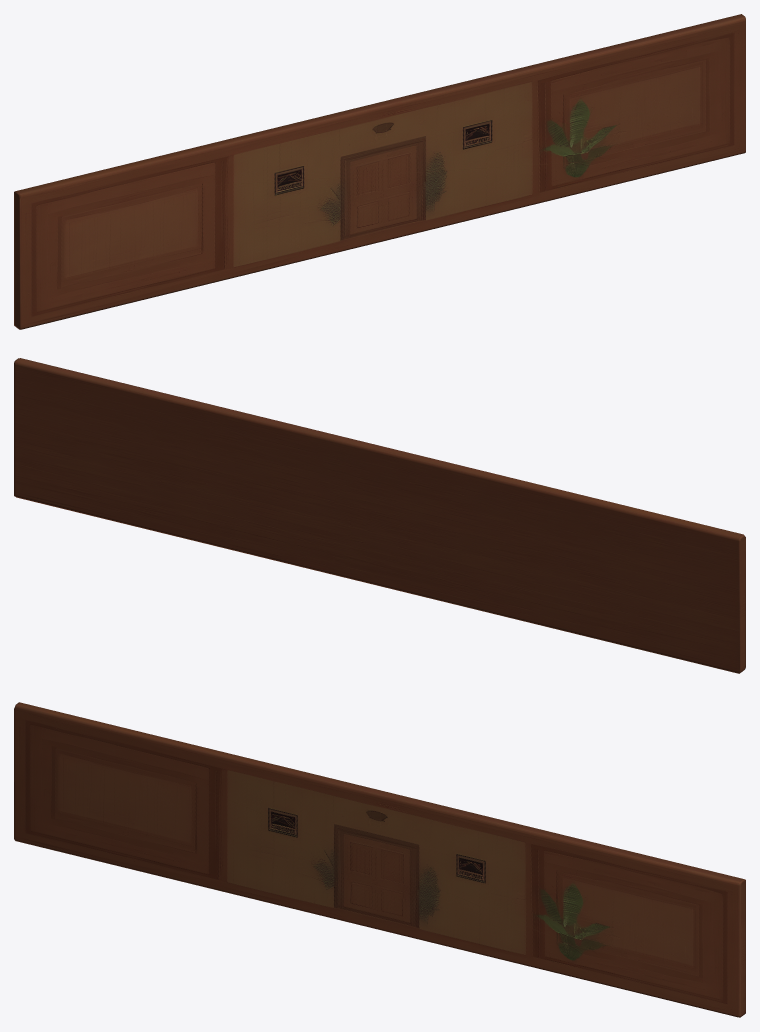
File: Meshy_AI_Low_poly_long_narrow__0518231738_texture.fbx
The picture shows the model from 3 angles, top to bottom: view 1: azimuth 30°, elevation 25°; view 2: azimuth 150°, elevation 25°; view 3: azimuth 330°, elevation 25°; orthographic projection.
Visible parts, largest first — view 1: Mesh_0; view 2: Mesh_0; view 3: Mesh_0.
Boxes of the visible parts, box(x1,y1,x2,y2) form: Mesh_0: box(14, 14, 745, 329); Mesh_0: box(14, 358, 745, 673); Mesh_0: box(14, 702, 745, 1017).
Bounding box in the file's own units: 190 × 34.05 × 2.74.
1 material, 1 textured.
